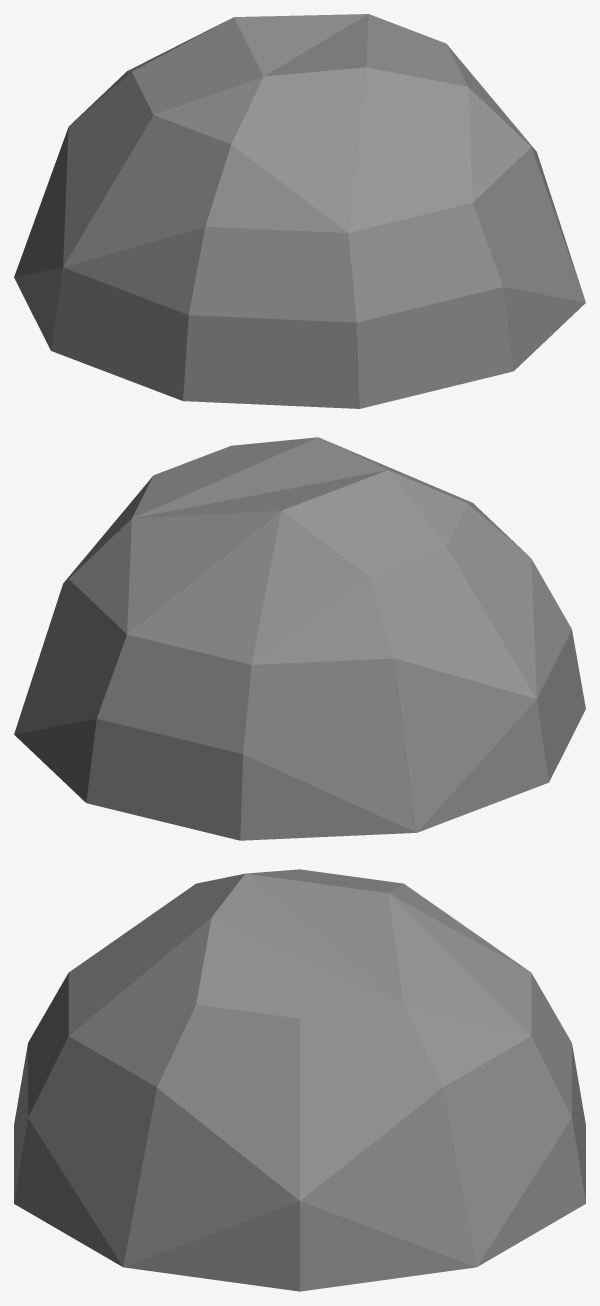
File: Rock 1.fbx
The picture shows the model from 3 angles, top to bottom: view 1: azimuth 30°, elevation 25°; view 2: azimuth 150°, elevation 25°; view 3: azimuth 270°, elevation 25°; orthographic projection. The views are drawn at different scales.
Visible parts, largest first — view 1: Rock_1; view 2: Rock_1; view 3: Rock_1.
Part boxes in pixels (box(x1,y1,x2,y2)): Rock_1: box(14, 14, 585, 408); Rock_1: box(14, 437, 585, 840); Rock_1: box(14, 869, 585, 1291).
Size of the model in its own units: 53.35 by 25.37 by 50.74.
1 material, 1 textured.
